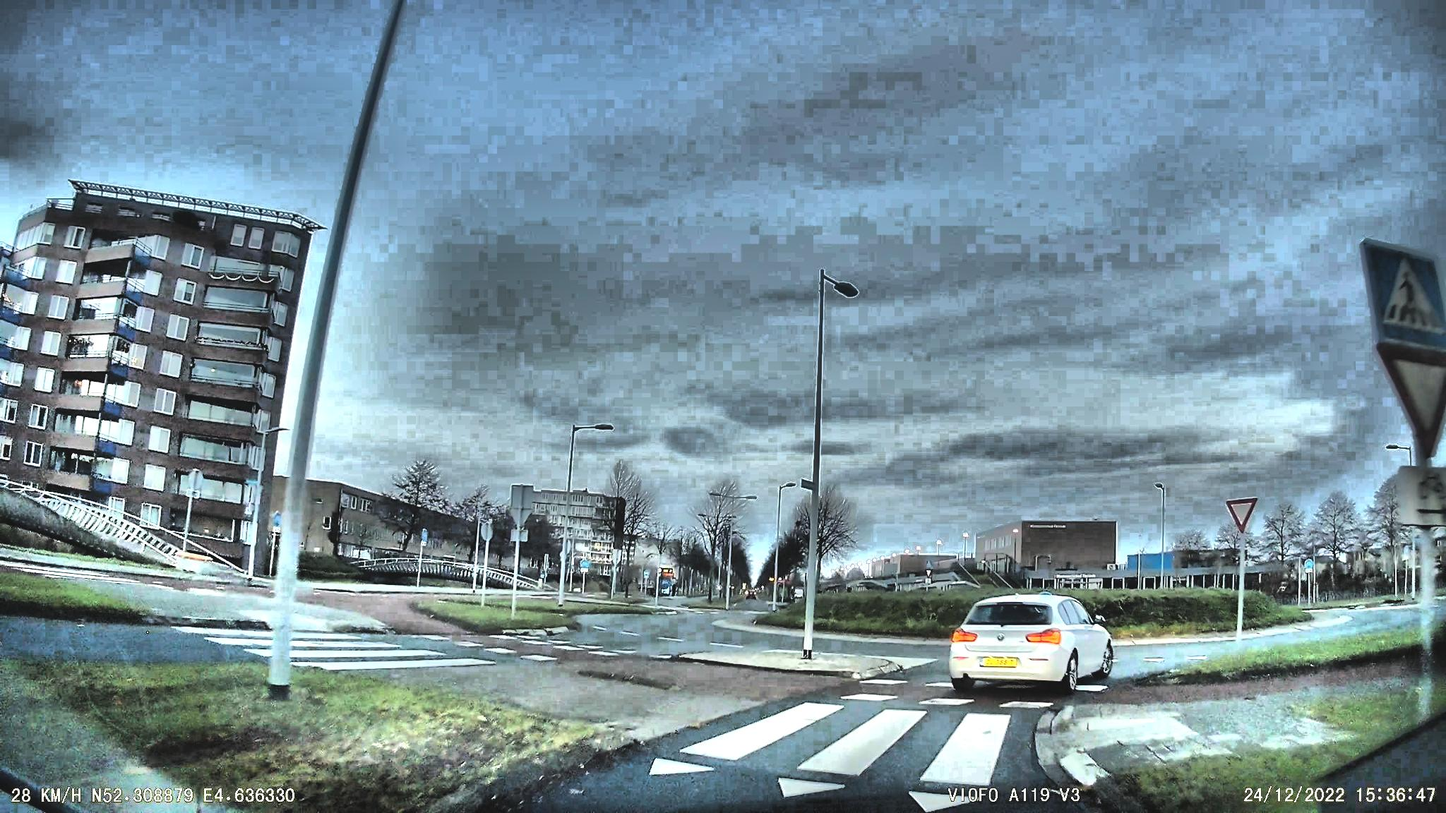Roads: (293, 622, 1079, 813), (47, 619, 273, 661), (1110, 636, 1248, 684)
